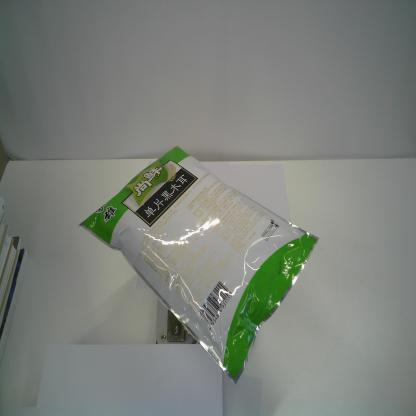Dried Food: (76, 142, 320, 386)
